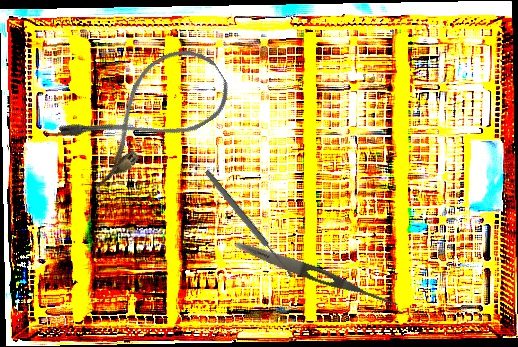Cannula: (55, 34, 240, 192)
Dressing Forceps: (232, 237, 403, 312)
Surgical Spoon: (203, 168, 295, 280)
